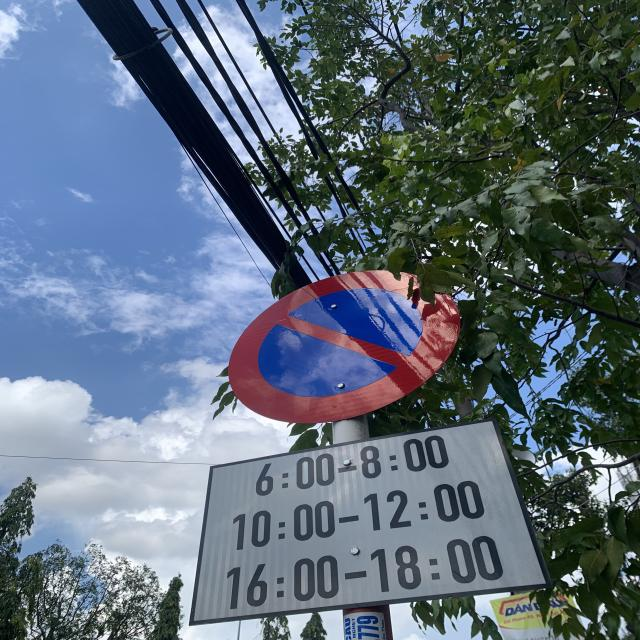Cam_Dau_Xe: (227, 270, 464, 422)
